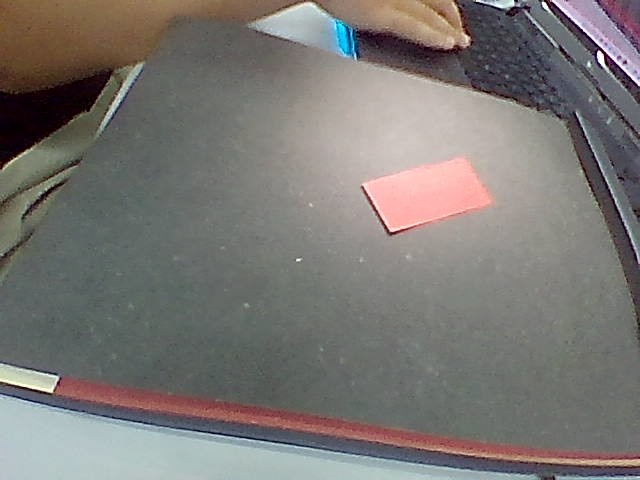card: (362, 158, 492, 233)
